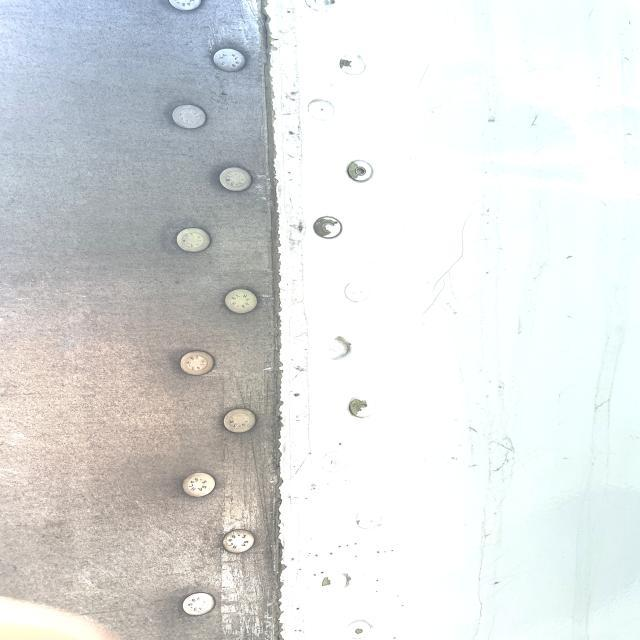crack: (416, 212, 479, 324), (479, 430, 529, 483)
